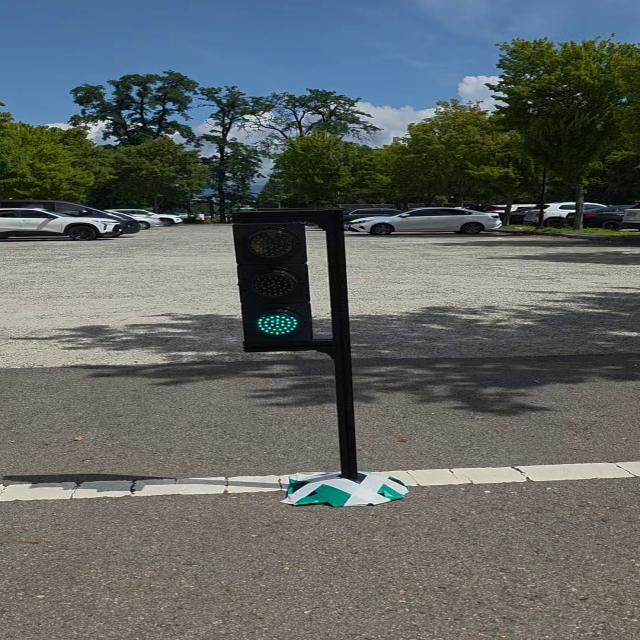green: (230, 212, 314, 350)
